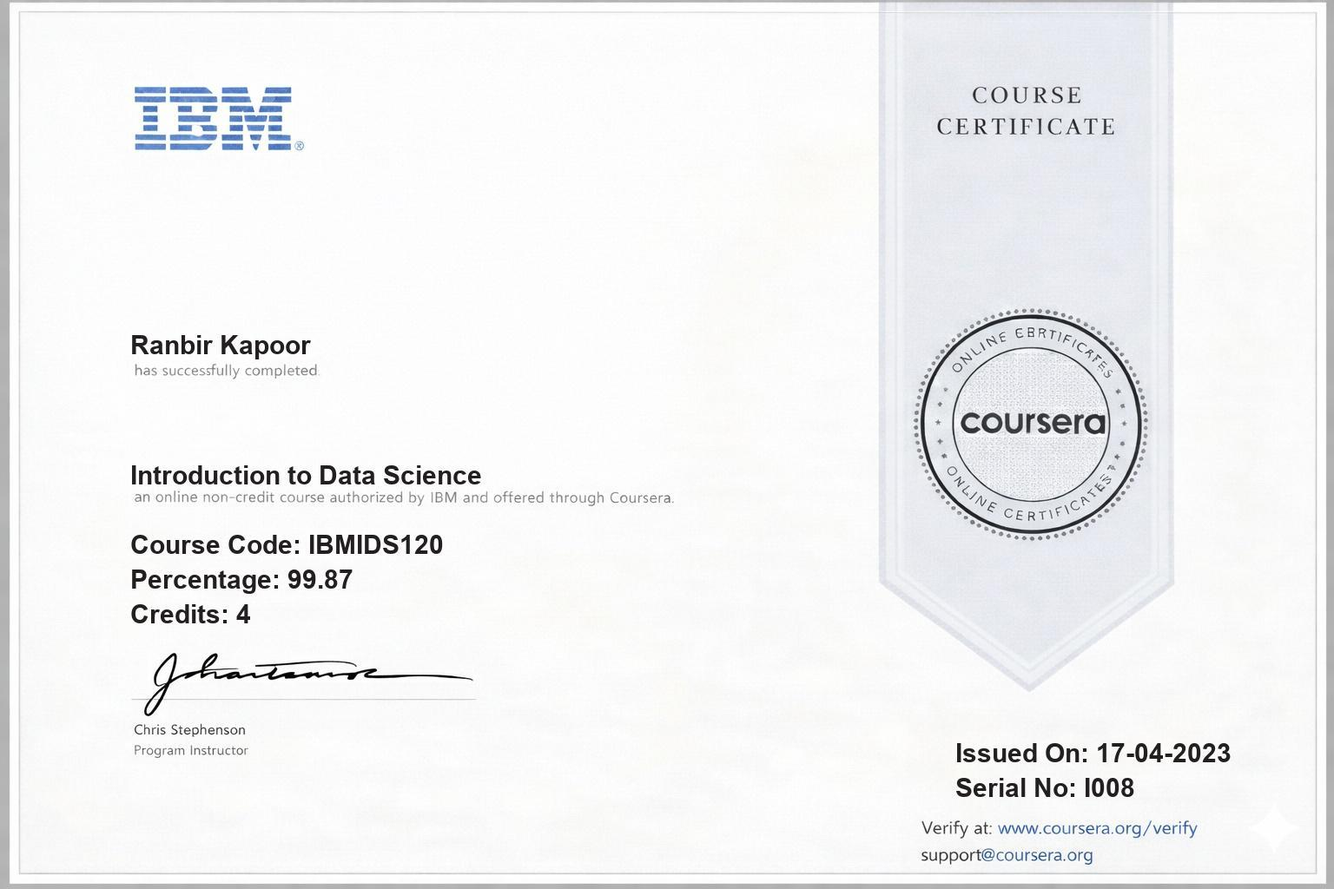Course Code: (303, 526, 448, 563)
Course Name: (120, 452, 487, 493)
Credits: (230, 597, 259, 634)
Issued On: (1094, 727, 1243, 772)
Percentage: (282, 559, 354, 597)
Serial No: (1078, 770, 1139, 809)
Student Name: (126, 326, 323, 364)
